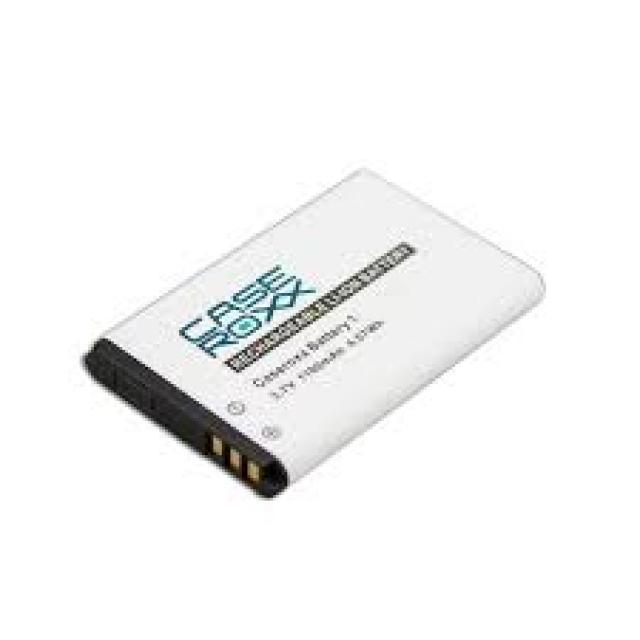non-organic waste: (82, 167, 548, 499)
